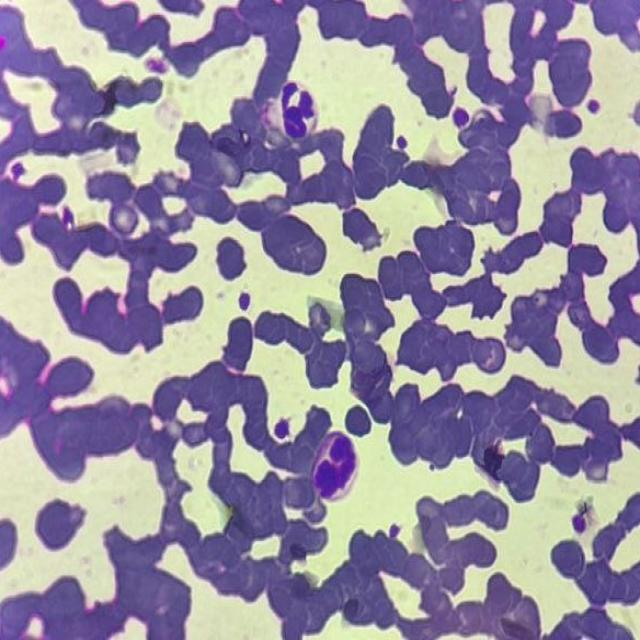Neutrofilo: (312, 428, 362, 506), (280, 78, 321, 139)
